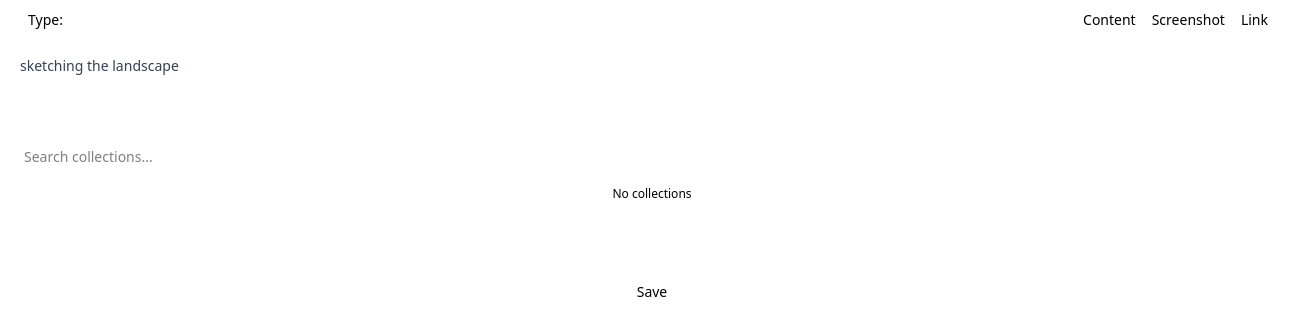
clipper preview › still shows a real save failure
Click the button "Save" at (652, 292), box [12,272,1292,312]
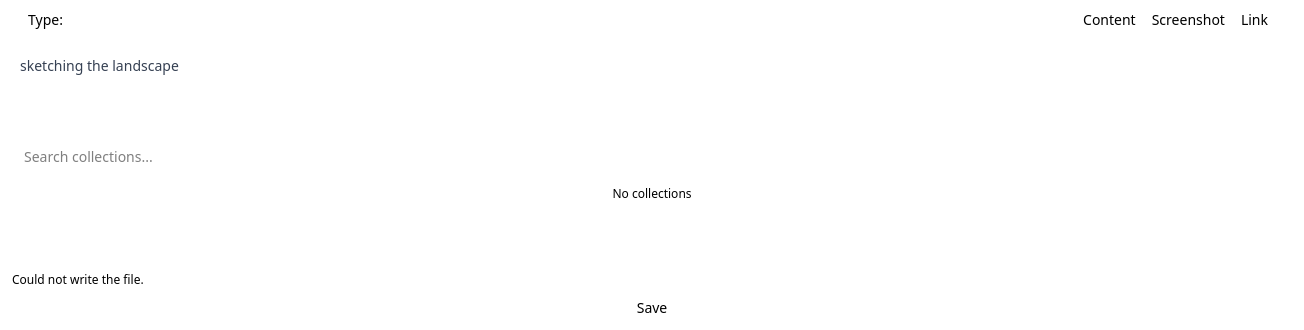
expect the text "Could not write the file." is shown: met, box [12,271,144,288]
